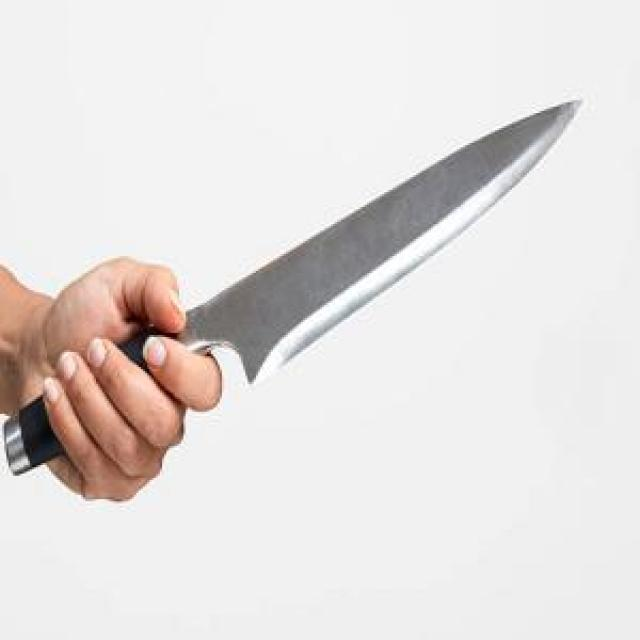knife: (0, 94, 585, 510)
